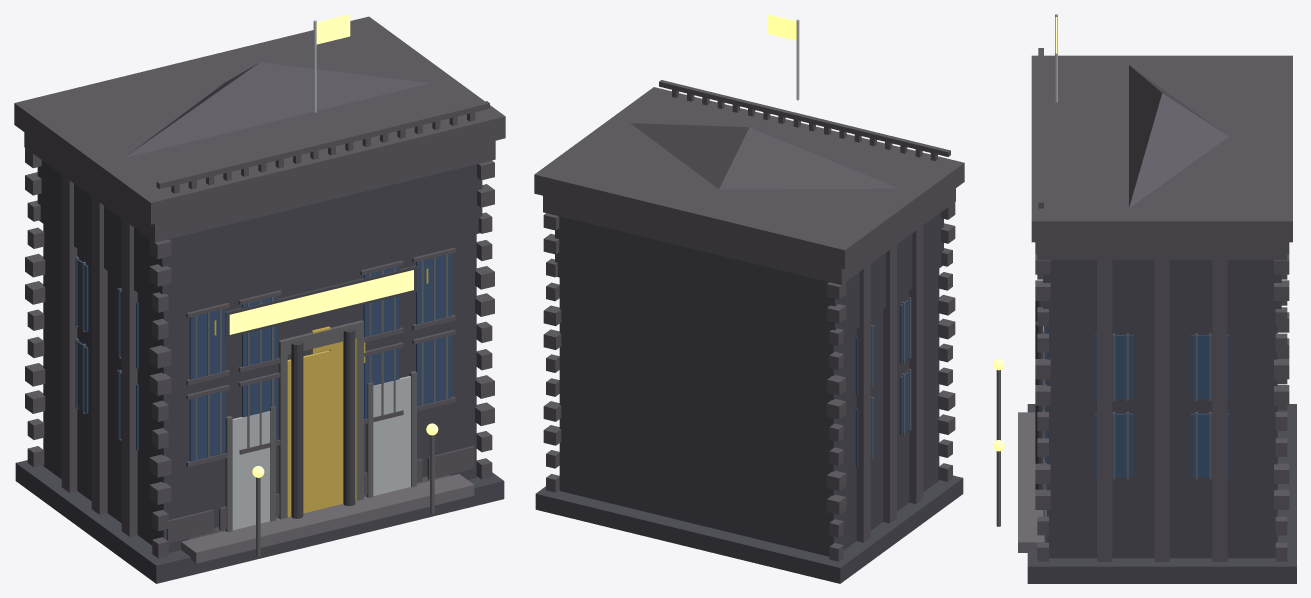
The model's file is gen_1772920989704.glb.
3 views of the same model, side by side, from view 1: azimuth 30°, elevation 25°; view 2: azimuth 150°, elevation 25°; view 3: azimuth 270°, elevation 25° (orthographic). The views are drawn at different scales.
Visible parts, largest first — view 1: Cornice, MainBody, UpperBody, Pediment, Plinth, Entablature, MainDoor, Step_0, PilL_0, PilL_-3, PilL_3, SideDoorR (+26 smaller); view 2: MainBody, Cornice, UpperBody, Plinth, Pediment, Entablature, PilL_3, PilL_-3, PilL_0, BalRail, Flag, SWin_Left_W1_-2.5 (+1 smaller); view 3: Cornice, MainBody, UpperBody, Plinth, Pediment, PilR_-3, PilR_0, PilR_3, Entablature, Step_0, SWin_Right_W1_2.5, SWin_Right_W2_2.5 (+4 smaller).
Boxes of the visible parts, x1,y1,x2,y2 form: Cornice: [14, 16, 505, 224]; MainBody: [43, 224, 476, 552]; UpperBody: [37, 160, 482, 308]; Pediment: [124, 62, 430, 157]; Plinth: [15, 460, 504, 583]; Entablature: [24, 132, 495, 242]; MainDoor: [287, 349, 356, 516]; Step_0: [181, 474, 474, 563]; PilL_0: [91, 197, 107, 514]; PilL_-3: [121, 219, 137, 536]; PilL_3: [61, 175, 77, 492]; SideDoorR: [373, 376, 410, 495]; MainBody: [559, 269, 939, 556]; Cornice: [534, 87, 964, 269]; UpperBody: [555, 213, 943, 342]; Plinth: [535, 475, 963, 583]; Pediment: [630, 123, 898, 189]; Entablature: [543, 188, 955, 284]; PilL_3: [856, 264, 870, 542]; PilL_-3: [909, 225, 923, 503]; PilL_0: [883, 245, 896, 523]; BalRail: [659, 80, 950, 156]; Flag: [767, 14, 796, 40]; SWin_Left_W1_-2.5: [899, 371, 909, 434]; Cornice: [1031, 55, 1292, 242]; MainBody: [1047, 324, 1277, 558]; UpperBody: [1043, 260, 1281, 324]; Plinth: [1027, 404, 1296, 583]; Pediment: [1129, 65, 1228, 207]; PilR_-3: [1097, 260, 1112, 561]; PilR_0: [1154, 260, 1169, 561]; PilR_3: [1212, 260, 1227, 561]; Entablature: [1037, 242, 1287, 259]; Step_0: [1018, 412, 1044, 552]; SWin_Right_W1_2.5: [1191, 413, 1229, 477]; SWin_Right_W2_2.5: [1191, 335, 1229, 398].
Size of the model in its own units: 20.4 by 28 by 15.8.
